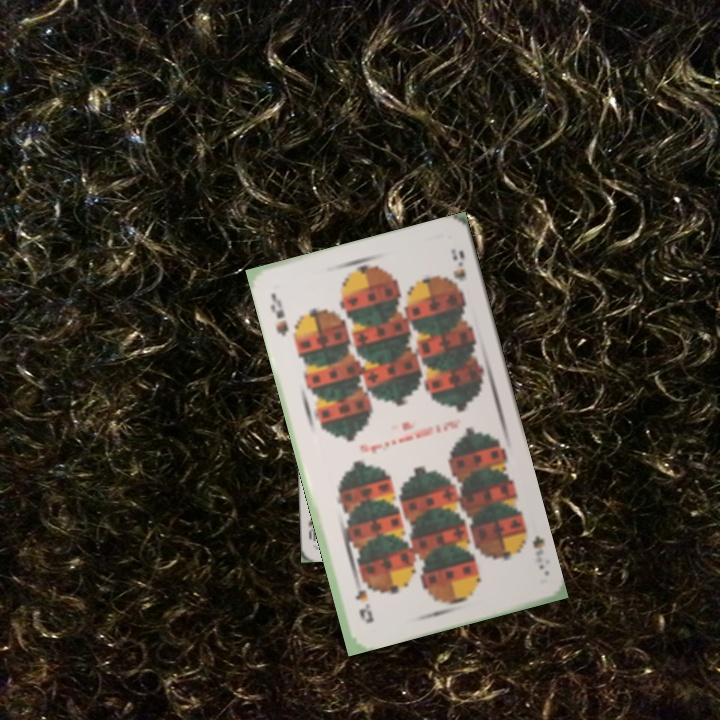S9: (266, 289, 291, 339), (529, 531, 548, 573)
